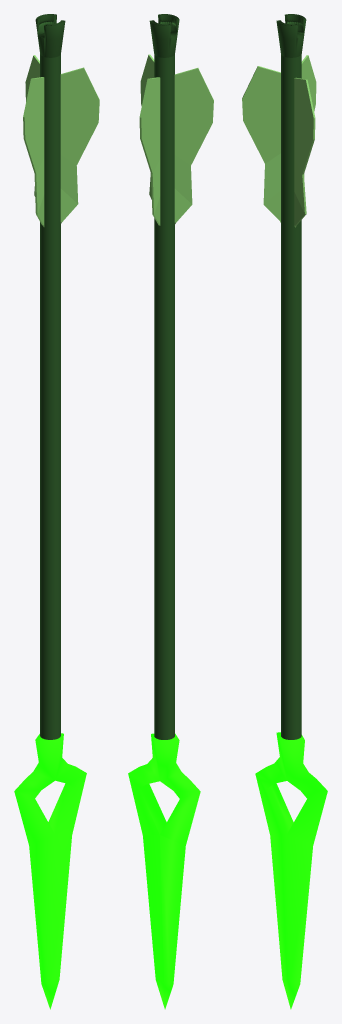
Rendered from yaya1.fbx.
3 renders of one model, left to right at view 1: azimuth 30°, elevation 25°; view 2: azimuth 150°, elevation 25°; view 3: azimuth 330°, elevation 25°, orthographic.
Visible parts, largest first — view 1: 円柱, 立方体.003, 立方体.002, 立方体.001, 立方体; view 2: 円柱, 立方体.003, 立方体.001, 立方体, 立方体.002; view 3: 円柱, 立方体.003, 立方体.001, 立方体.002, 立方体.
Boxes of the visible parts, bbox=[...] form: 円柱: bbox=[35, 14, 65, 739]; 立方体.003: bbox=[14, 733, 86, 1009]; 立方体.002: bbox=[60, 67, 99, 223]; 立方体.001: bbox=[23, 77, 44, 226]; 立方体: bbox=[25, 55, 39, 196]; 円柱: bbox=[149, 14, 179, 739]; 立方体.003: bbox=[128, 733, 200, 1009]; 立方体.001: bbox=[174, 68, 213, 223]; 立方体: bbox=[139, 77, 160, 225]; 立方体.002: bbox=[140, 54, 154, 199]; 円柱: bbox=[276, 14, 306, 739]; 立方体.003: bbox=[255, 732, 327, 1009]; 立方体.001: bbox=[242, 66, 280, 222]; 立方体.002: bbox=[294, 77, 315, 227]; 立方体: bbox=[301, 55, 316, 176].
Size of the model in its own units: 49.08 by 619 by 42.64.
